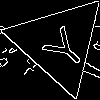Y: (34, 18, 92, 74)
